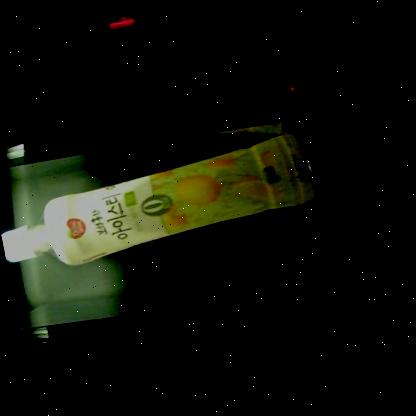Plastic Bottle: (2, 130, 316, 262)
